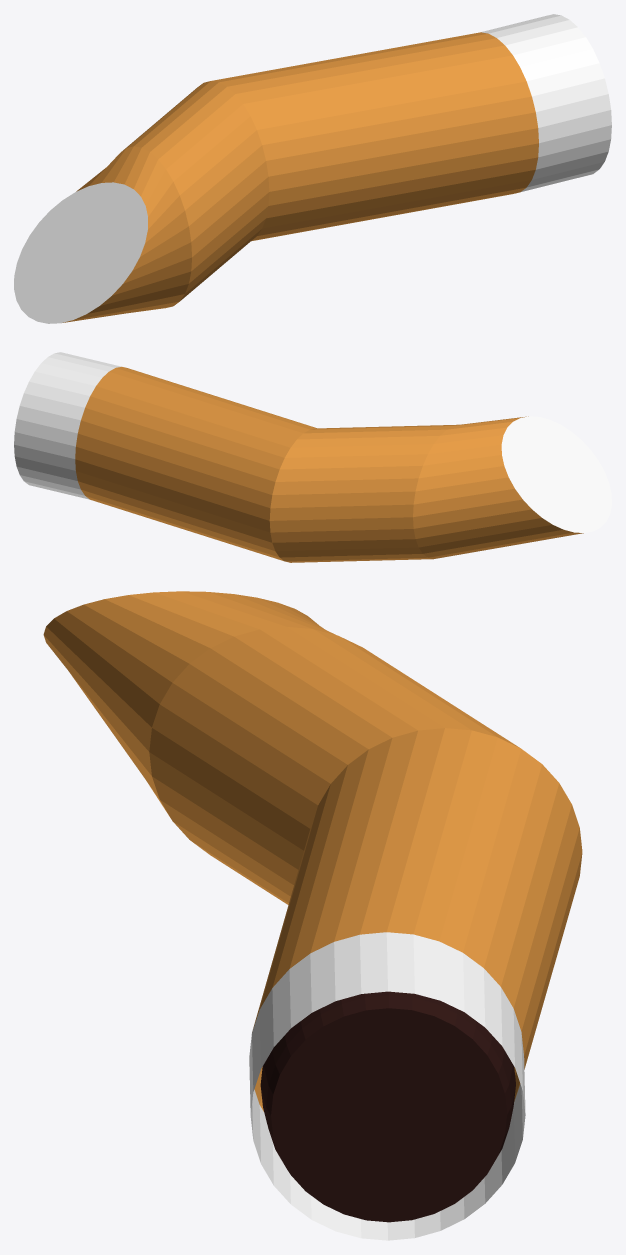
The model's file is бычок1.fbx.
3 views of the same model, one above another, from view 1: azimuth 30°, elevation 25°; view 2: azimuth 150°, elevation 25°; view 3: azimuth 270°, elevation 25° (orthographic). The views are drawn at different scales.
Visible parts, largest first — view 1: Цилиндр.098; view 2: Цилиндр.098; view 3: Цилиндр.098.
Boxes of the visible parts, left/top/right/bottom form: Цилиндр.098: left=14, top=14, right=611, bottom=323; Цилиндр.098: left=14, top=352, right=611, bottom=562; Цилиндр.098: left=43, top=591, right=582, bottom=1240.
Size of the model in its own units: 39.22 by 9.31 by 18.25.
